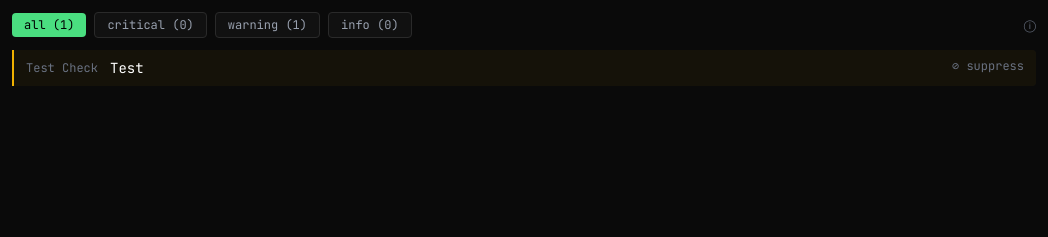
Test: IssuesList › hides suppress info popover when info icon is clicked again
Step 1. Click the button titled "About suppress rules" → (1030, 25), box [1024,17,1036,33]
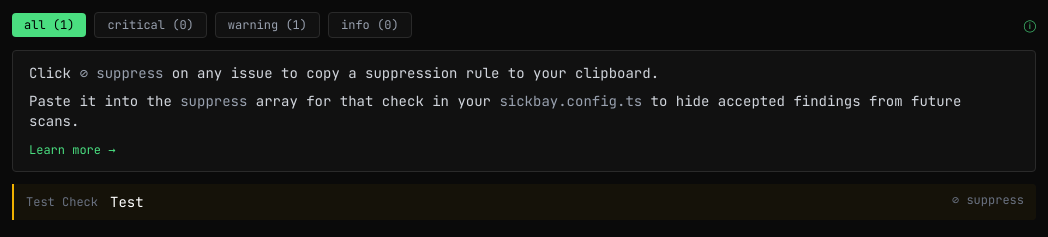
Expected: the text "copy a suppression rule" is shown, [163,64,659,82]
Step 2. Click the button titled "About suppress rules" → (1030, 25), box [1024,17,1036,33]
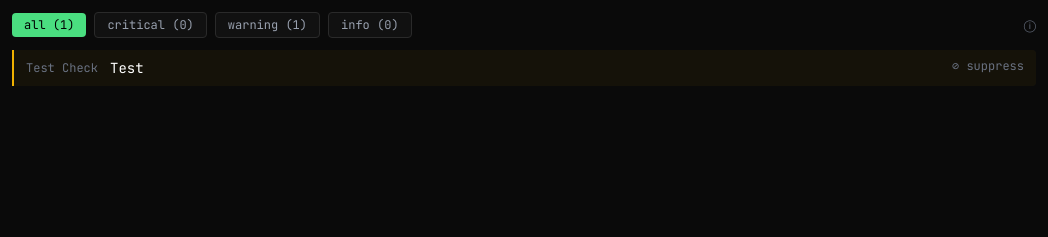
Expected: the text "copy a suppression rule" is gone
